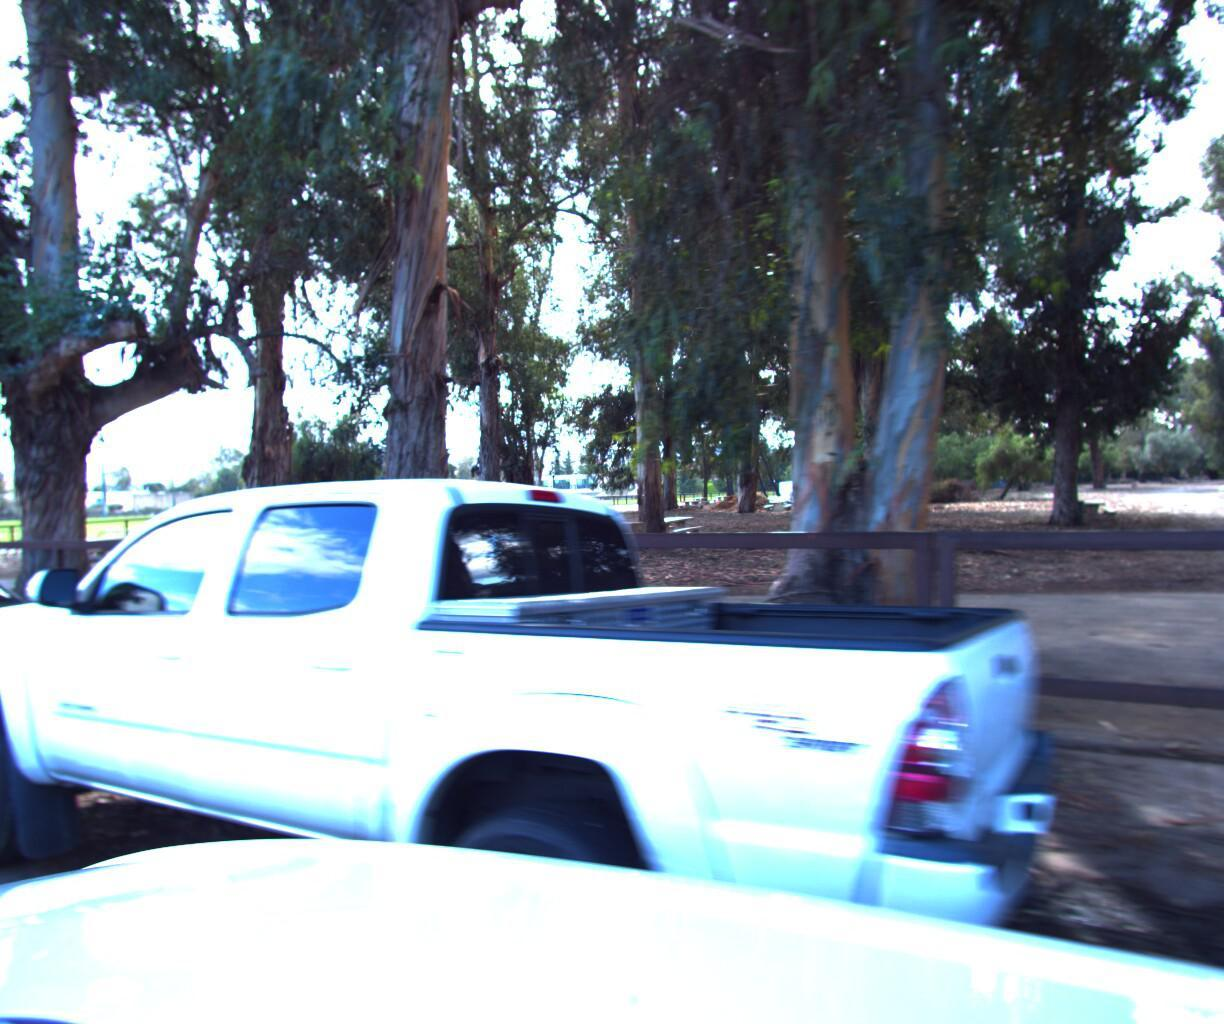car: (0, 388, 1060, 1024), (0, 534, 101, 808)
